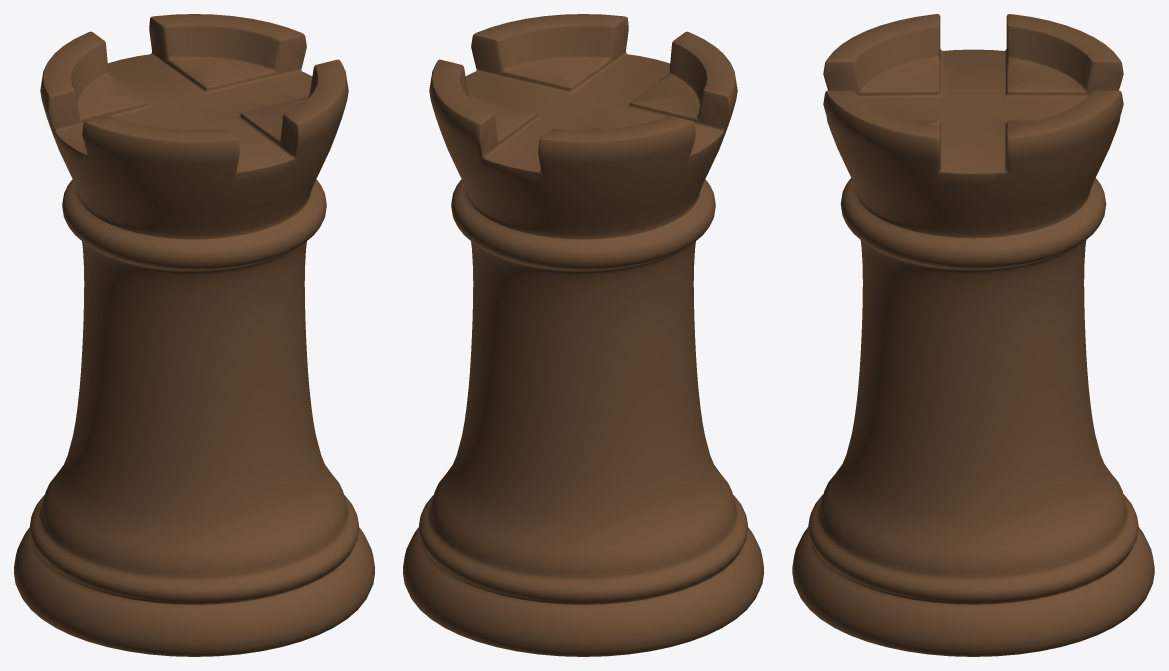
The model's file is black-rook.glb.
The picture shows the model from 3 angles, left to right: view 1: azimuth 30°, elevation 25°; view 2: azimuth 150°, elevation 25°; view 3: azimuth 270°, elevation 25°; orthographic projection.
Parts seen in each view (by area): view 1: black-rook.001; view 2: black-rook.001; view 3: black-rook.001.
Boxes of the visible parts, <box> form: black-rook.001: <box>14,14,374,656</box>; black-rook.001: <box>403,14,763,656</box>; black-rook.001: <box>792,14,1154,656</box>.
Size of the model in its own units: 0.6006 by 0.93 by 0.6006.
